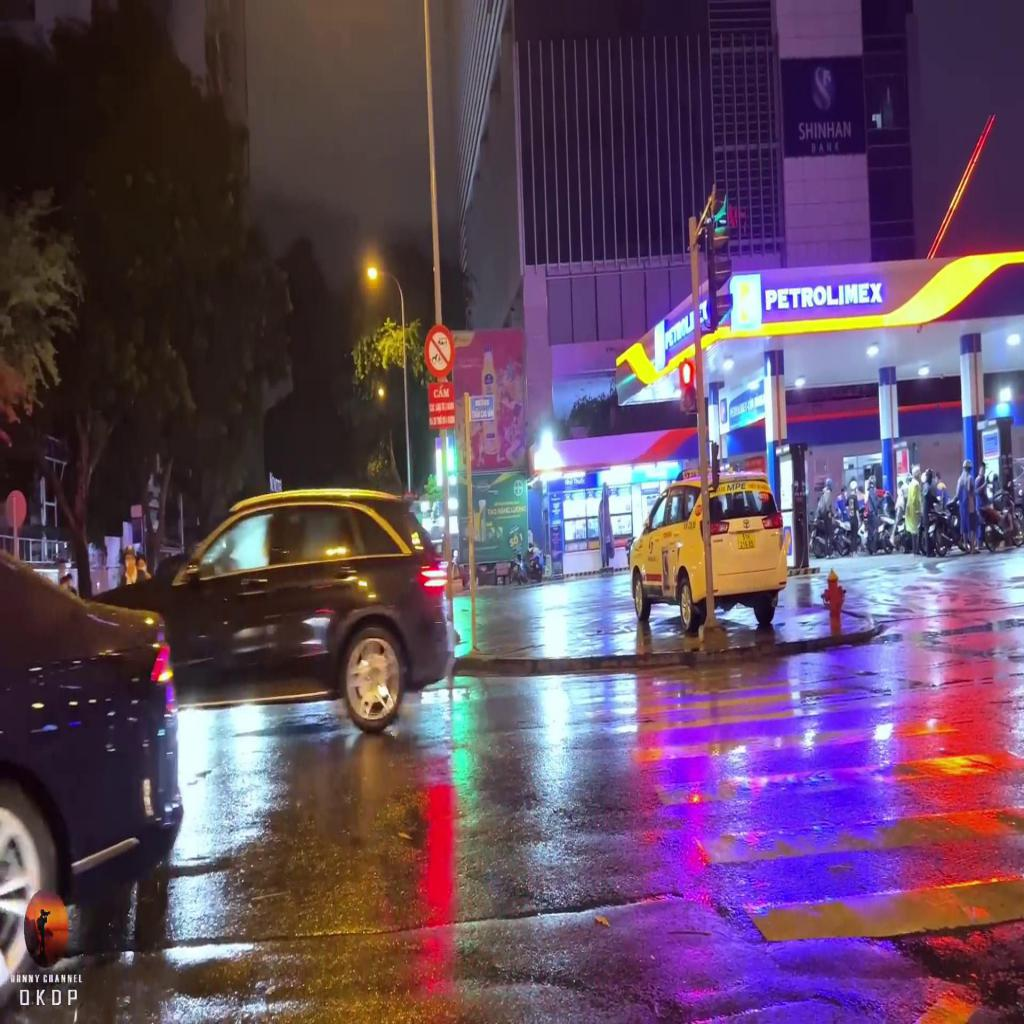cam_cac_loai_xe_3_banh: (425, 322, 455, 378)
